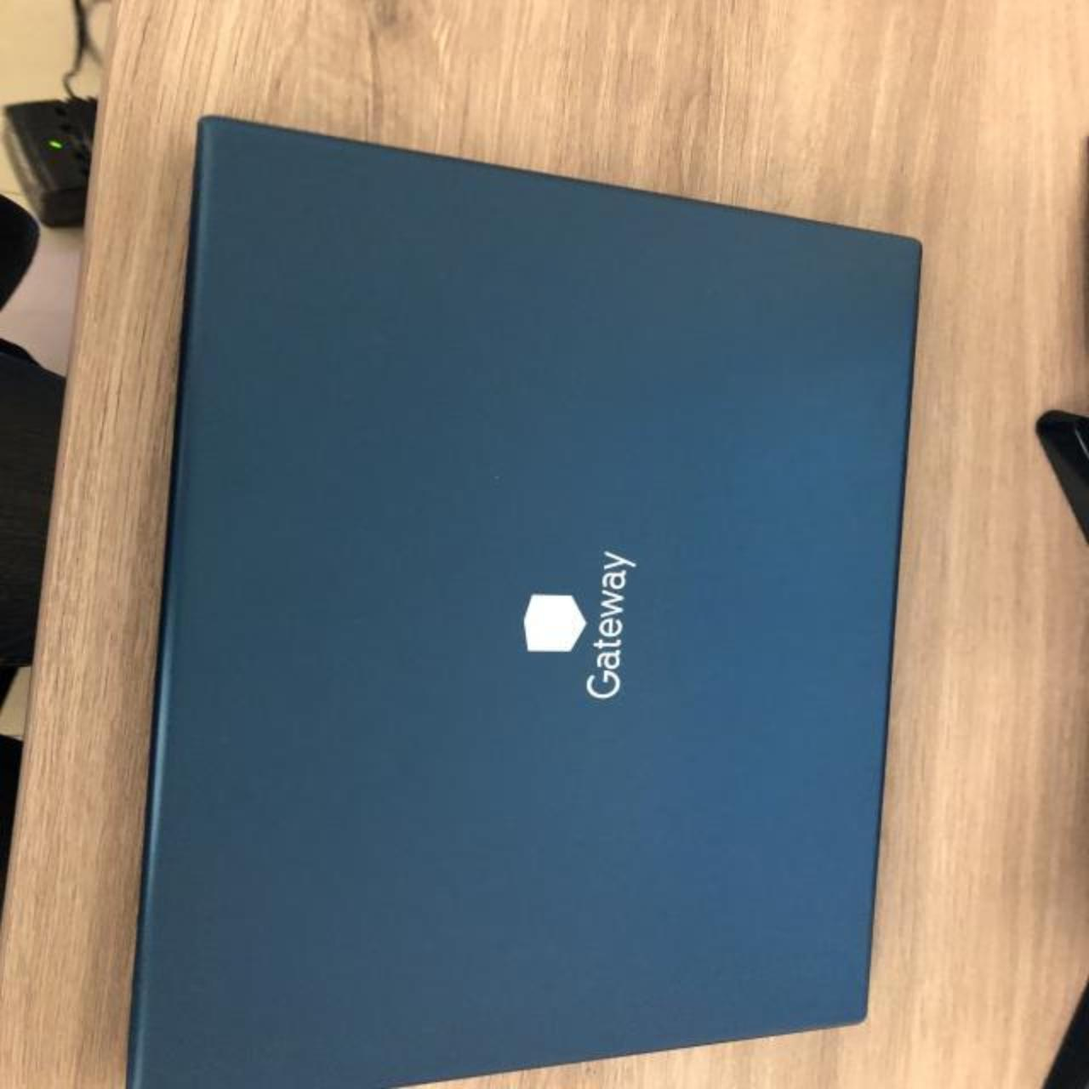laptop: (121, 116, 927, 1089)
